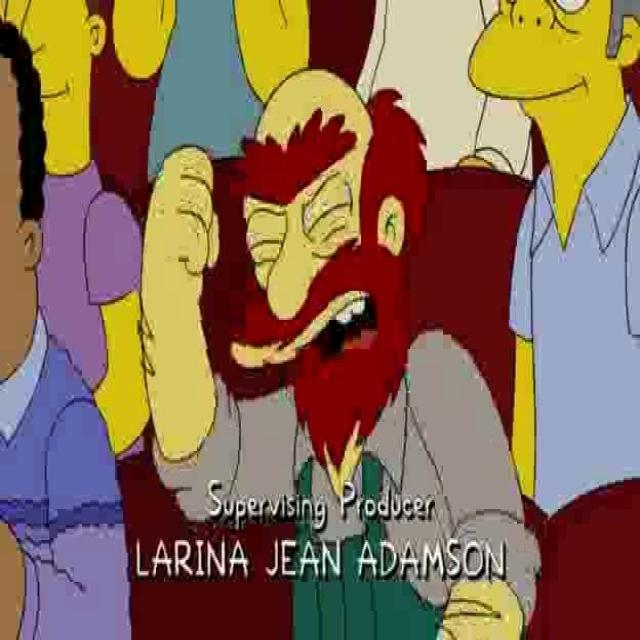Groundskeeper Willie: (229, 62, 432, 464)
